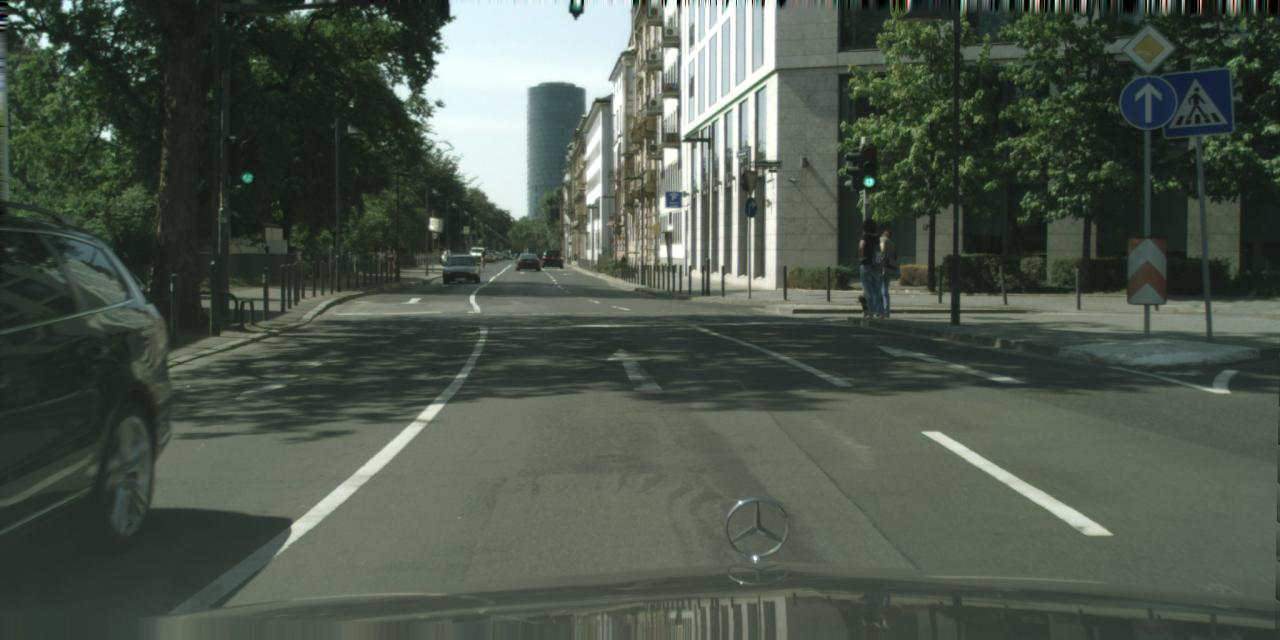ped: (850, 218, 891, 320), (868, 230, 903, 318), (384, 244, 396, 274), (374, 246, 385, 273), (481, 249, 487, 263)
